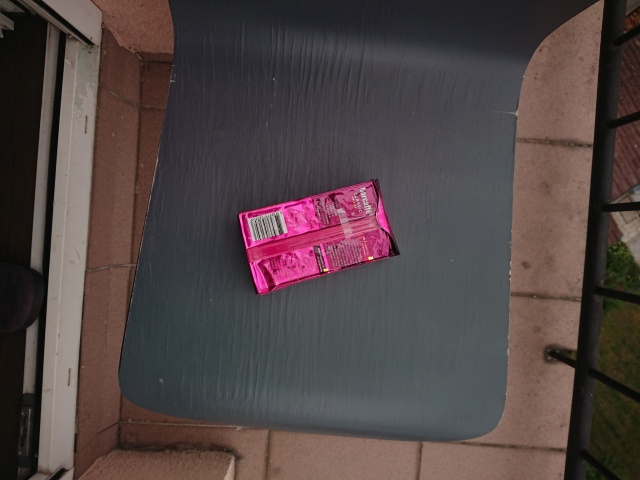Barcaffe Classic Original 225g: (234, 176, 403, 297)
